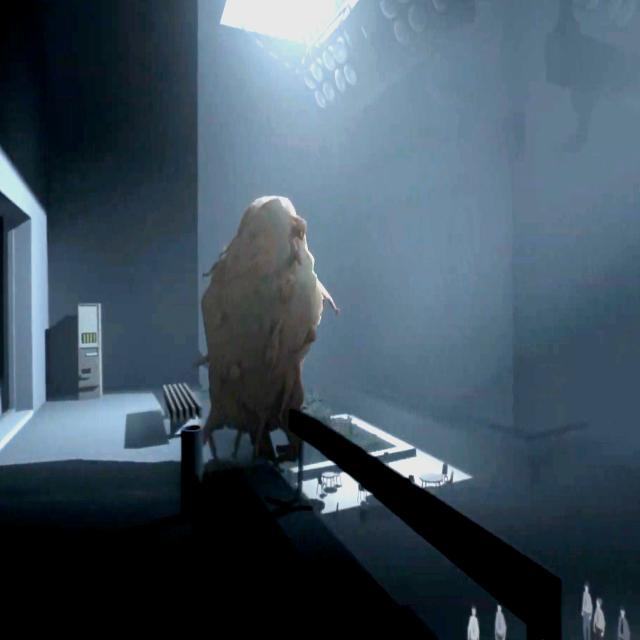blob: (196, 198, 341, 458)
human: (581, 583, 593, 640), (593, 596, 605, 640), (495, 604, 507, 640), (468, 603, 479, 640), (617, 606, 628, 640)
